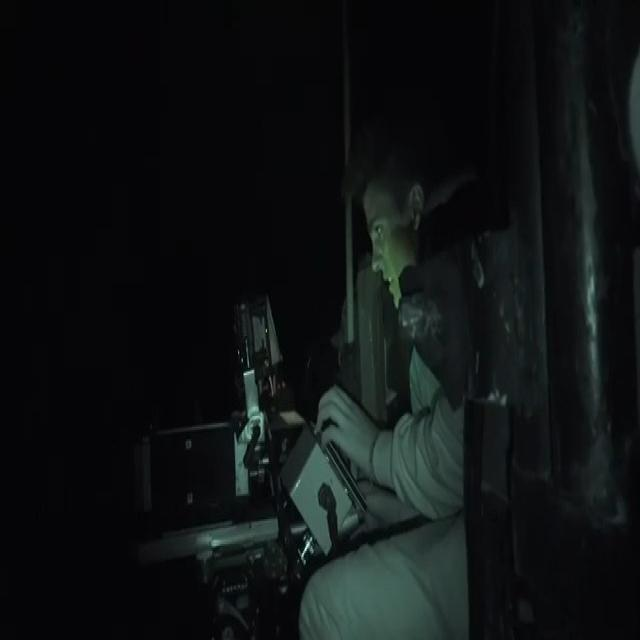device: (122, 122, 324, 640), (276, 414, 363, 581)
human: (326, 69, 538, 640)
